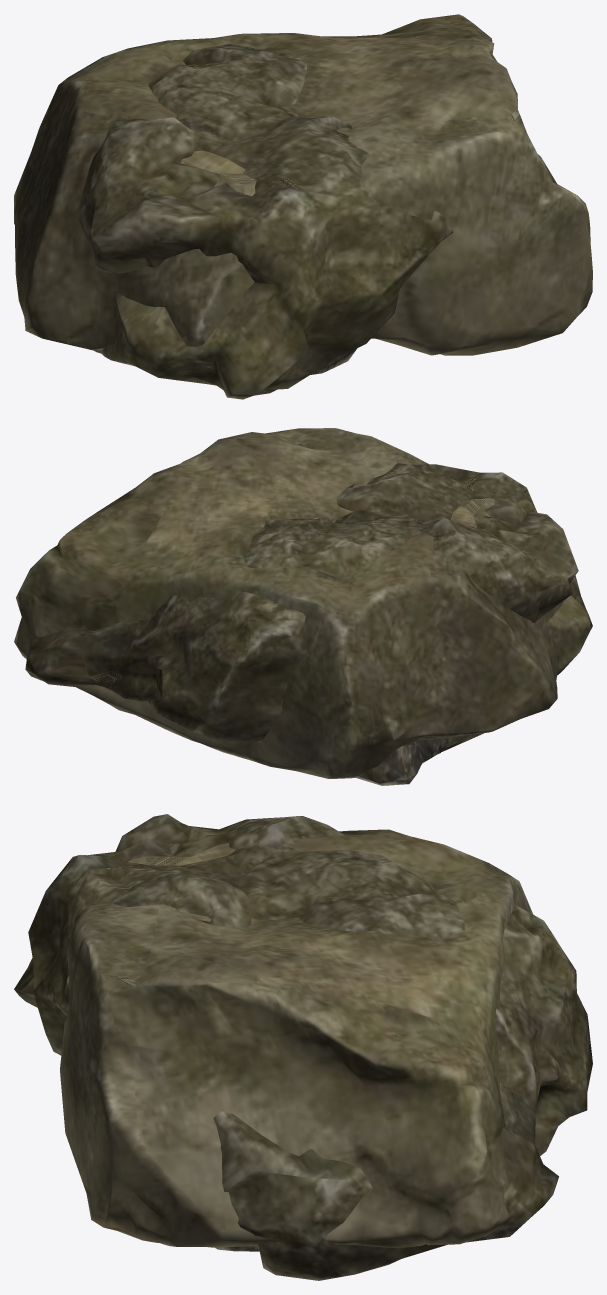
3 renders of one model, top to bottom at view 1: azimuth 30°, elevation 25°; view 2: azimuth 150°, elevation 25°; view 3: azimuth 270°, elevation 25°, orthographic. The views are drawn at different scales.
Visible parts, largest first — view 1: low.004, moss rock 13; view 2: low.004, moss rock 13, low.001; view 3: low.004, moss rock 13.
Boxes of the visible parts, x1,y1,x2,y2 form: low.004: (14,14,592,367); moss rock 13: (77,44,556,399); low.004: (14,428,578,778); moss rock 13: (25,463,592,751); low.001: (355,738,447,785); low.004: (60,829,533,1248); moss rock 13: (14,814,592,1280).
Size of the model in its own units: 1.69 by 0.7448 by 1.44.
1 material, 1 textured.
